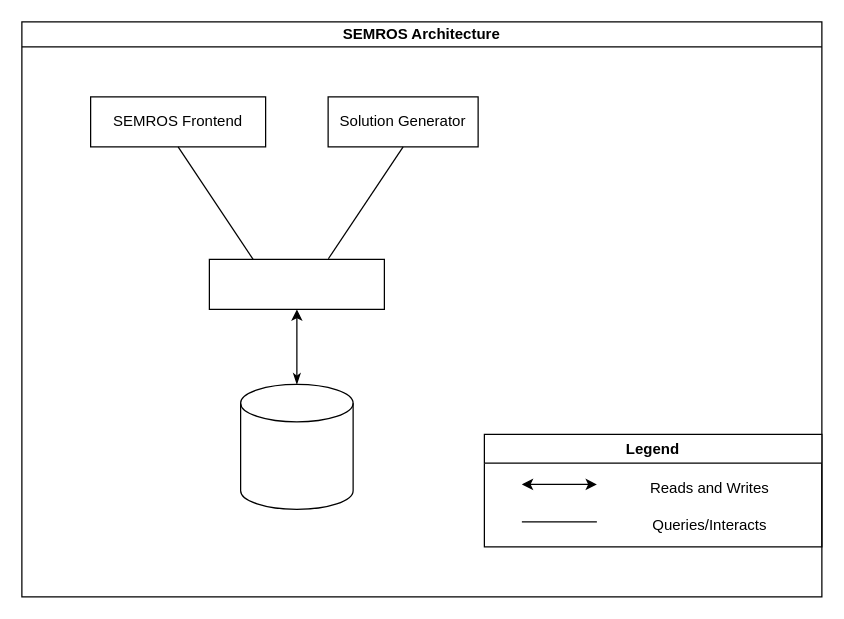
Image size: 844x619. Some labels were removed from this diagram. The shapes that lost their labels are listed below. From the top down, each one's centre as x and y in pixels, then its label:
At point (296, 283): "SEMROS Backend".
At point (296, 446): "SEMROS Database (Cloud)".
